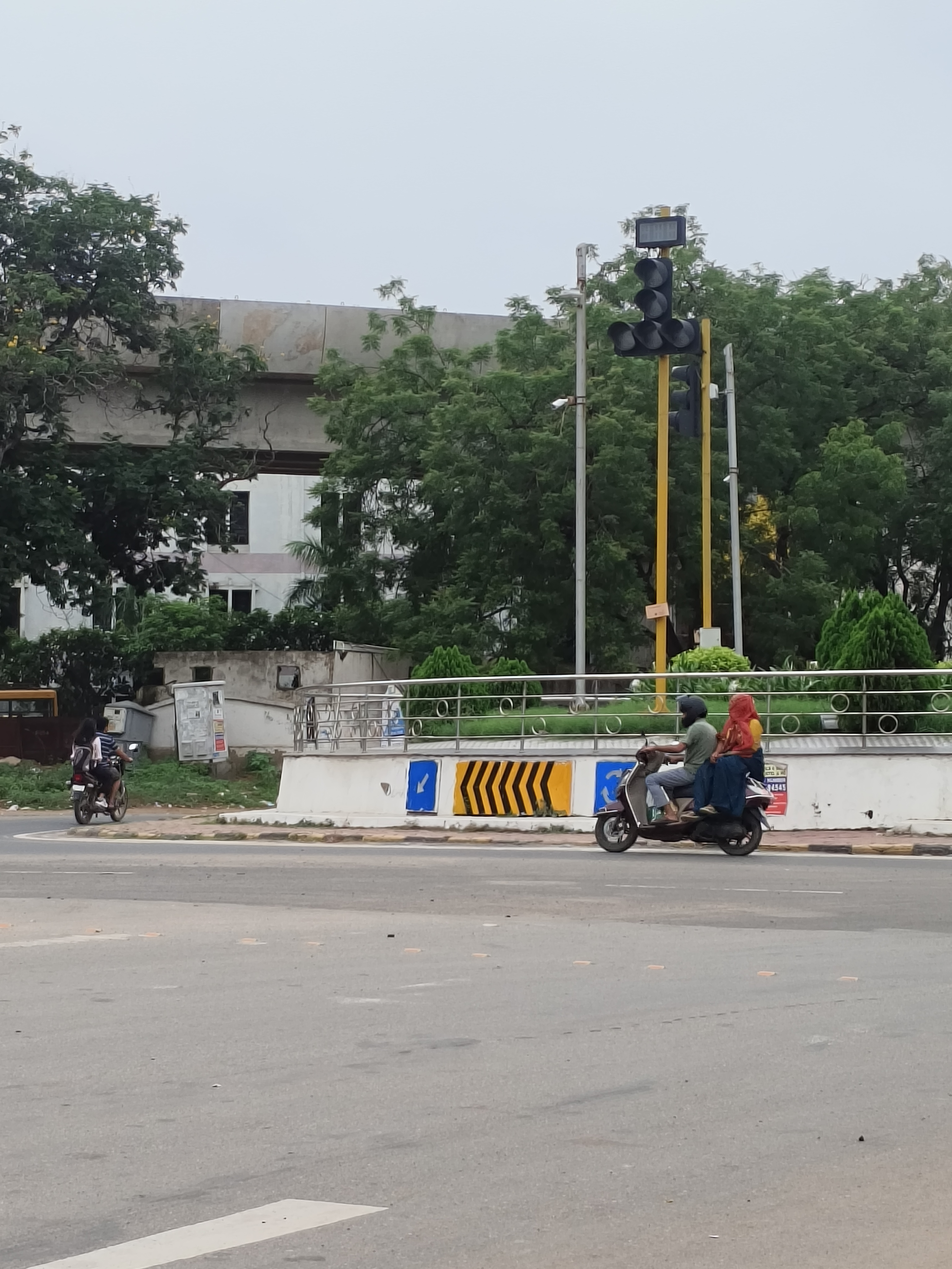BikeWithRider: (585, 688, 788, 863), (61, 711, 146, 819)
Helmet: (670, 689, 714, 731)
NoHelmet: (722, 689, 763, 726), (74, 713, 98, 740), (93, 714, 116, 737)
